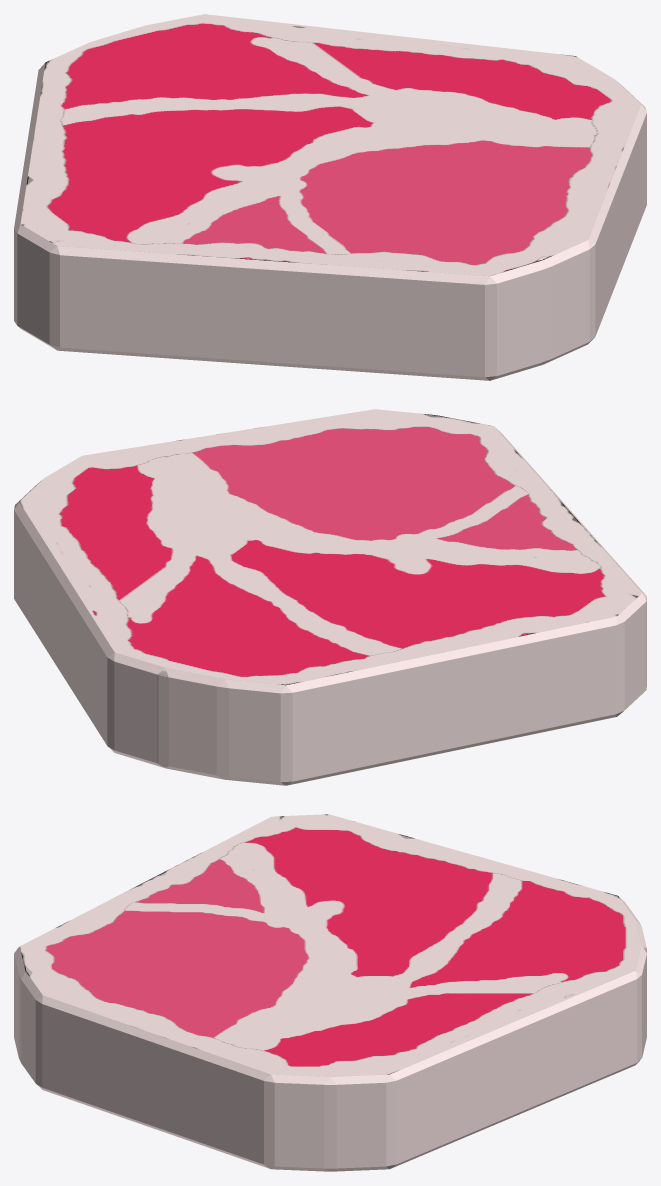
The model's file is Pork.fbx.
3 renders of one model, top to bottom at view 1: azimuth 30°, elevation 25°; view 2: azimuth 150°, elevation 25°; view 3: azimuth 270°, elevation 25°, orthographic. The views are drawn at different scales.
Parts seen in each view (by area): view 1: Pork; view 2: Pork; view 3: Pork.
Boxes of the visible parts, x1,y1,x2,y2 form: Pork: [14, 14, 646, 380]; Pork: [14, 409, 646, 785]; Pork: [14, 814, 646, 1171].
Bounding box in the file's own units: 200 × 32.99 × 200.
Materials: 1 (1 with a texture image).
